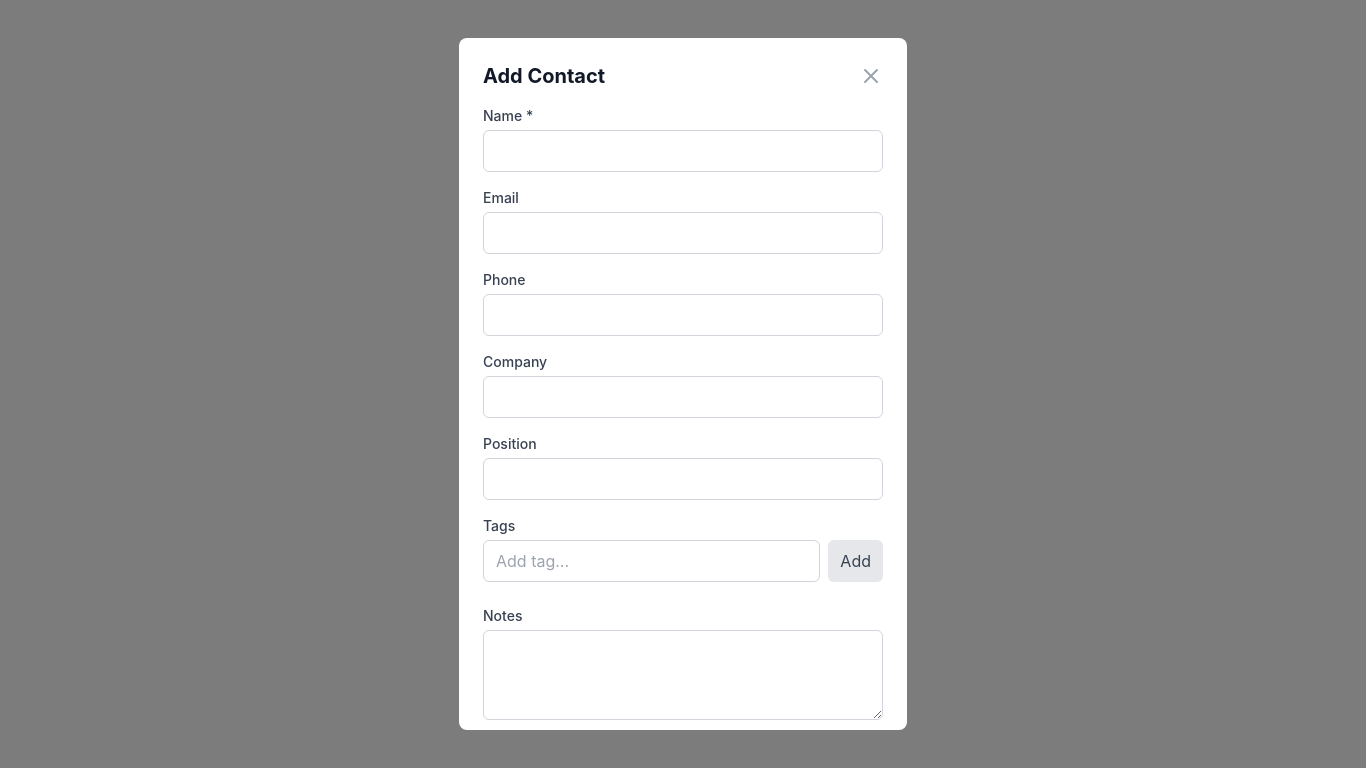
Test: ContactForm › Add Contact Mode › should handle tag management
Note: Add a tag
Type "client" into the field with placeholder "Add tag..." at (652, 561), box [483, 540, 820, 582]
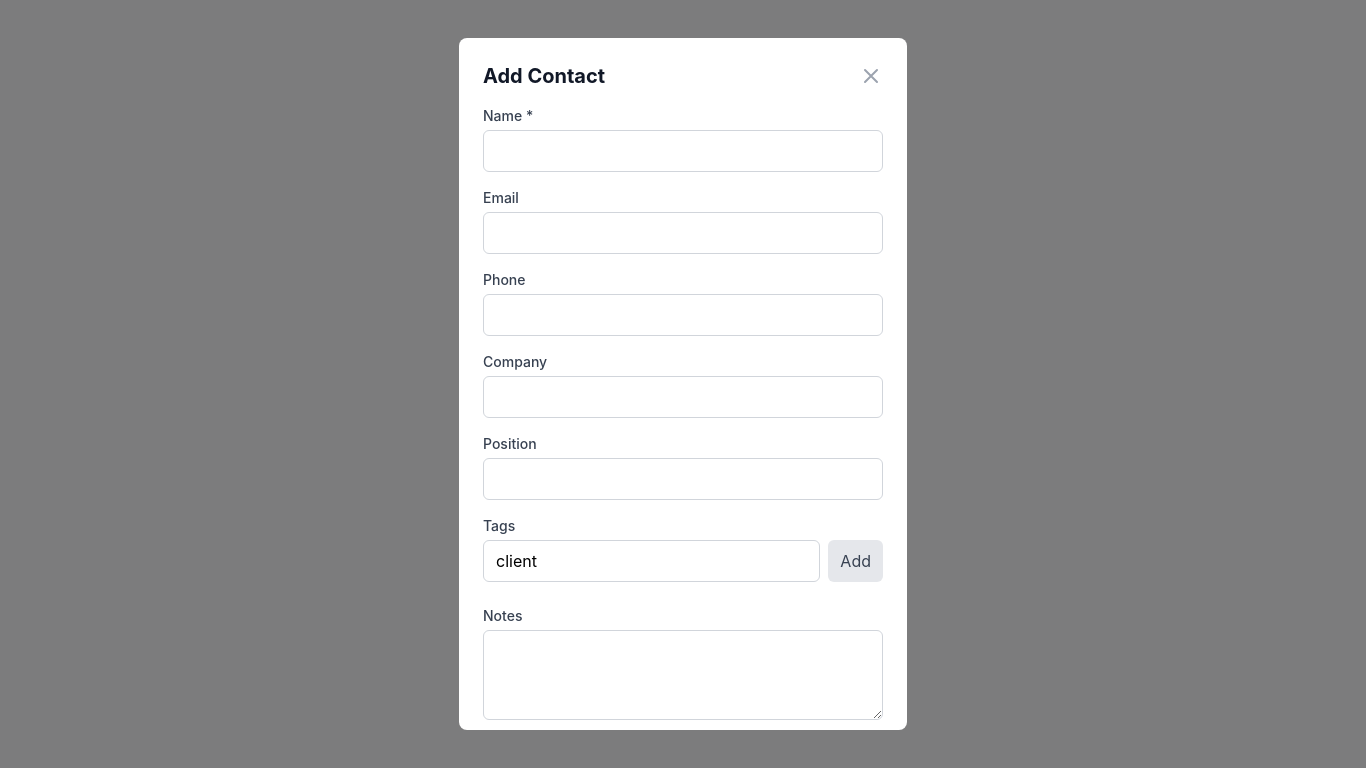
Click the button "Add" at (856, 561), box [828, 540, 883, 582]
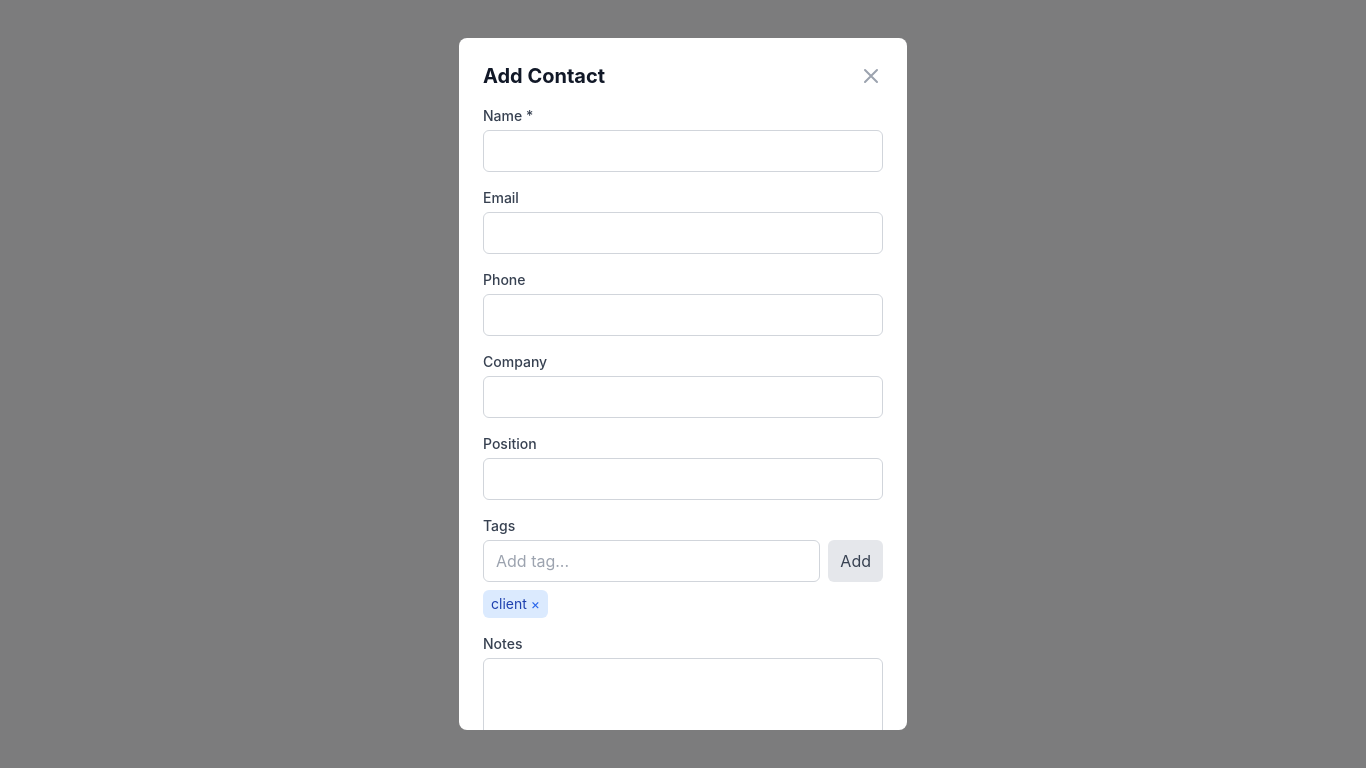
Check: the text "client" is shown, box [491, 595, 527, 612]
Check: the field with placeholder "Add tag..." is empty, box [483, 540, 820, 582]
Note: Remove a tag
Click the button "×" at (535, 604), box [531, 594, 540, 614]
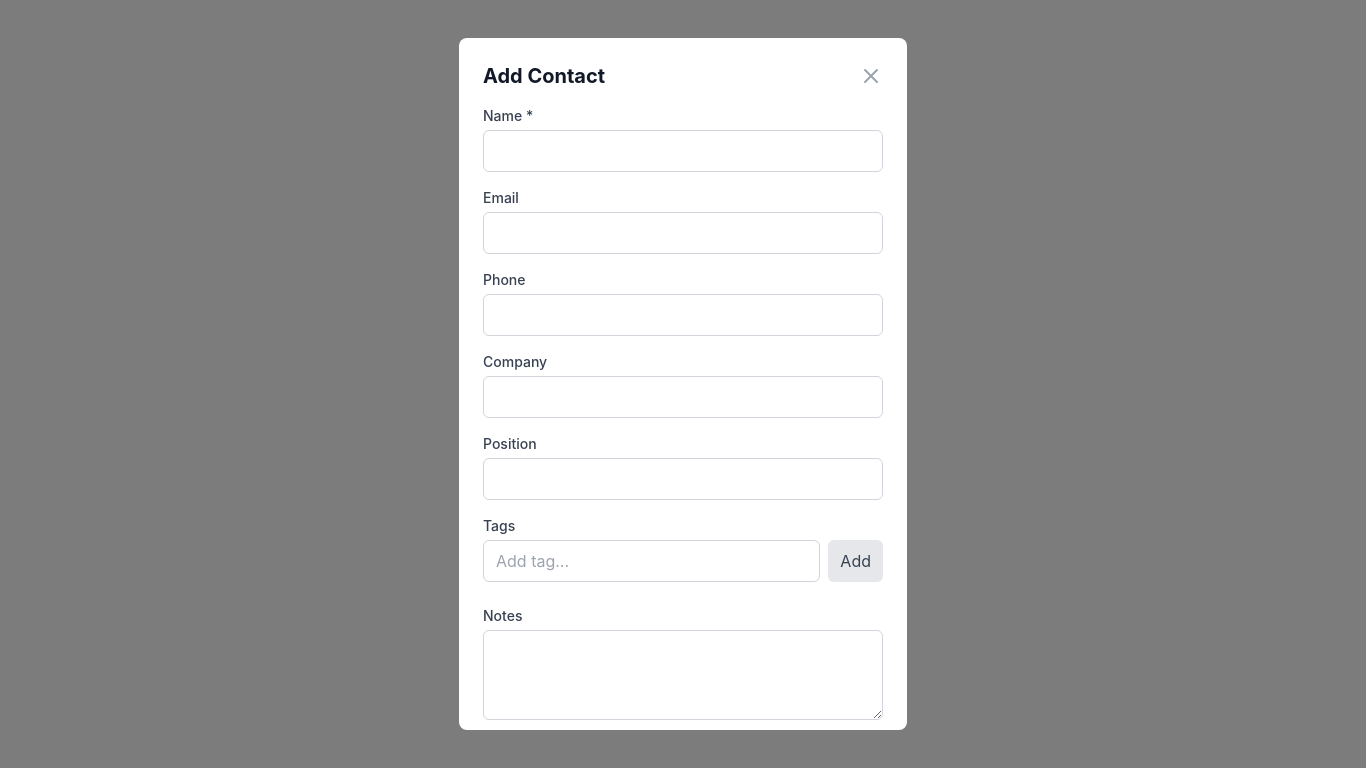
Check: the text "client" is gone
